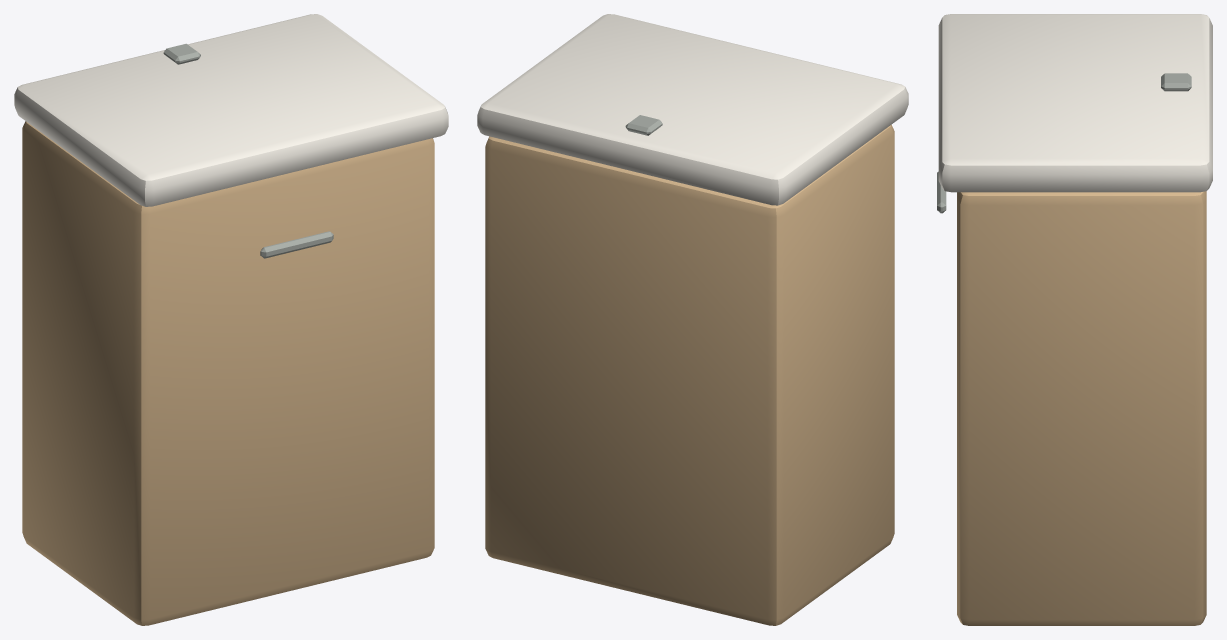
The model's file is sink.glb.
The picture shows the model from 3 angles, left to right: view 1: azimuth 30°, elevation 25°; view 2: azimuth 150°, elevation 25°; view 3: azimuth 270°, elevation 25°; orthographic projection. The views are drawn at different scales.
Visible parts, largest first — view 1: FURN-sink; view 2: FURN-sink; view 3: FURN-sink.
Part boxes in pixels (x1,y1,x2,y2): FURN-sink: (14,14,448,625); FURN-sink: (477,14,908,625); FURN-sink: (937,14,1212,625).
Bounding box in the file's own units: 0.6 × 0.865 × 0.4525.
